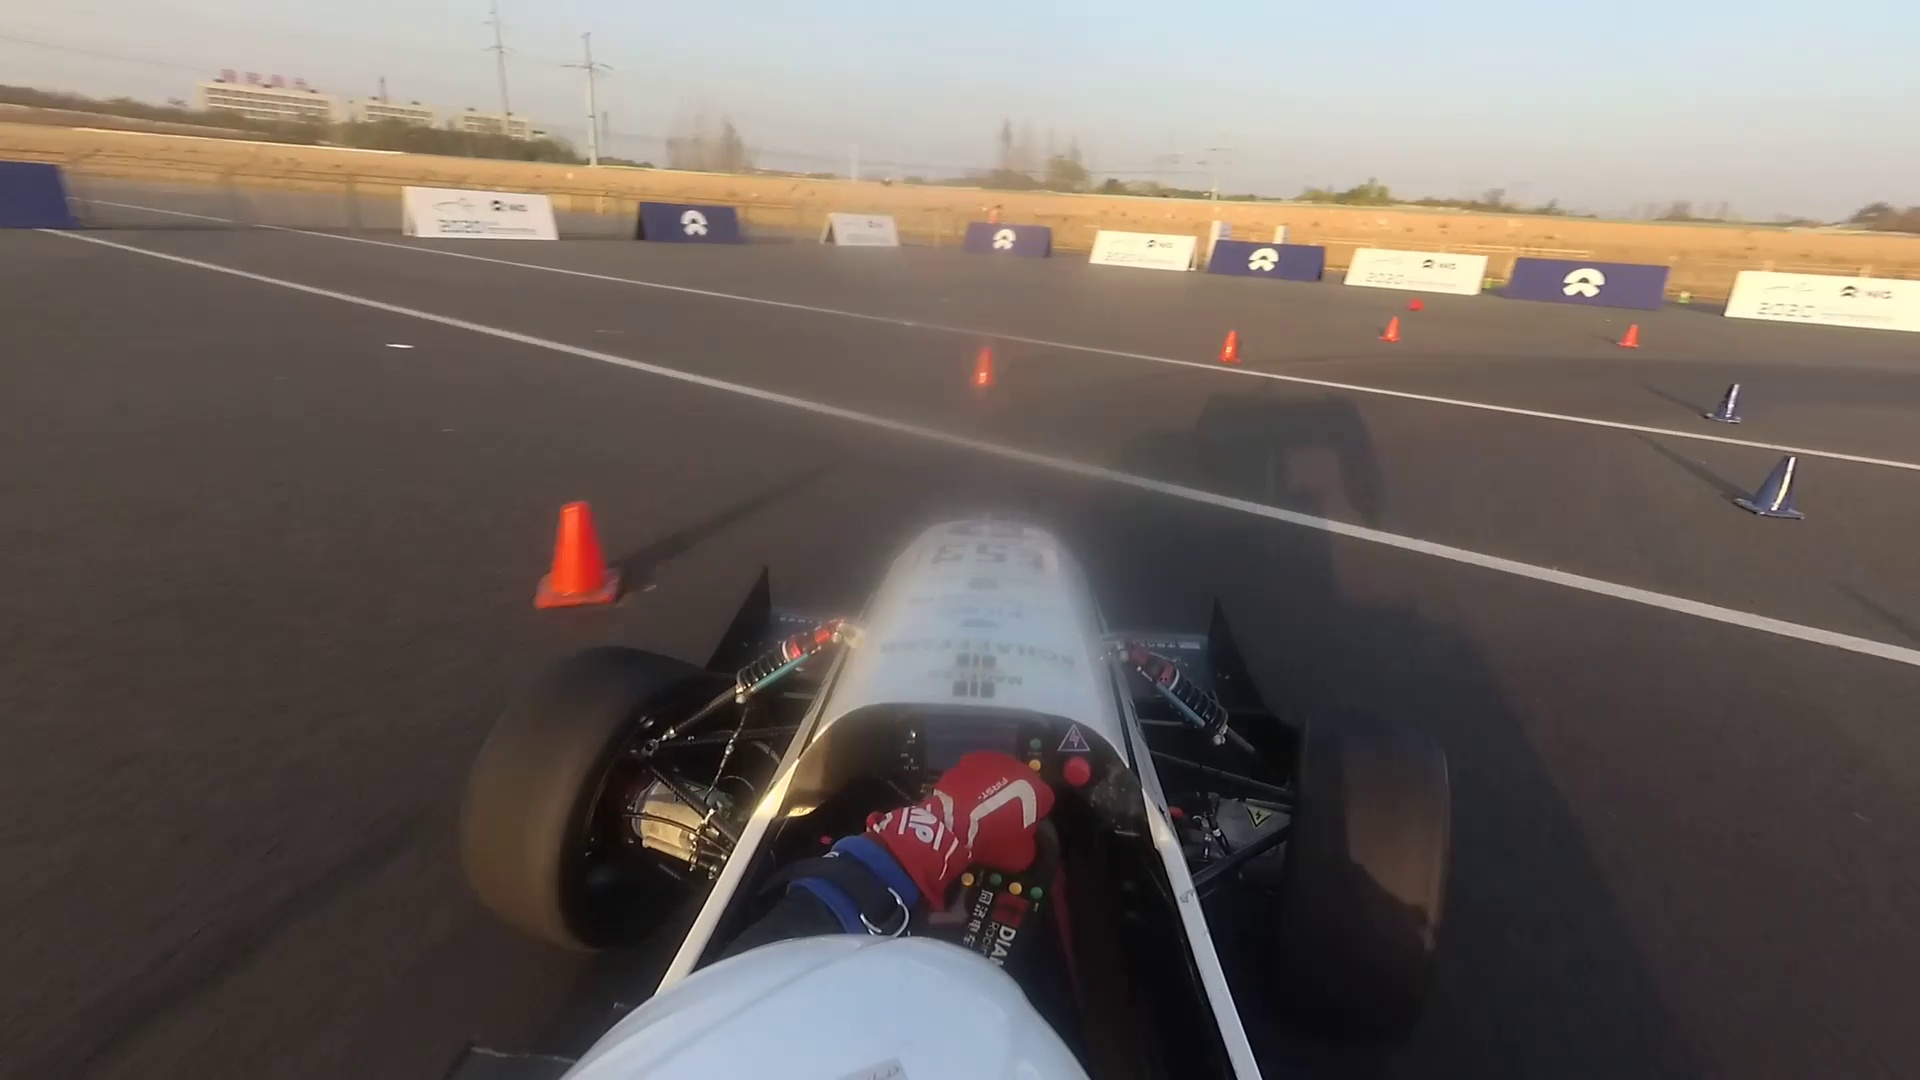blue_cone: (1726, 452, 1807, 522), (1701, 380, 1749, 425)
red_cone: (525, 505, 622, 628), (968, 347, 1006, 392), (1371, 315, 1408, 356), (1611, 318, 1648, 355), (1212, 324, 1242, 369), (1404, 293, 1425, 314)
